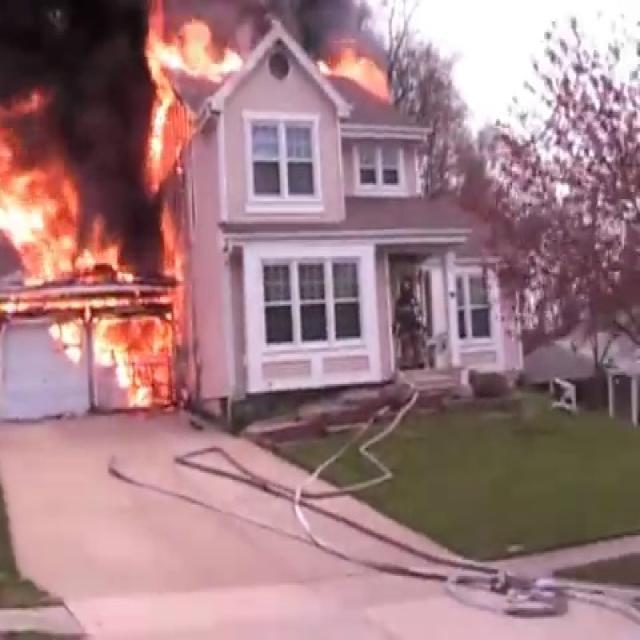Fire: (0, 124, 189, 403), (138, 2, 244, 186), (313, 40, 392, 100)
Smoke: (0, 0, 383, 108)
